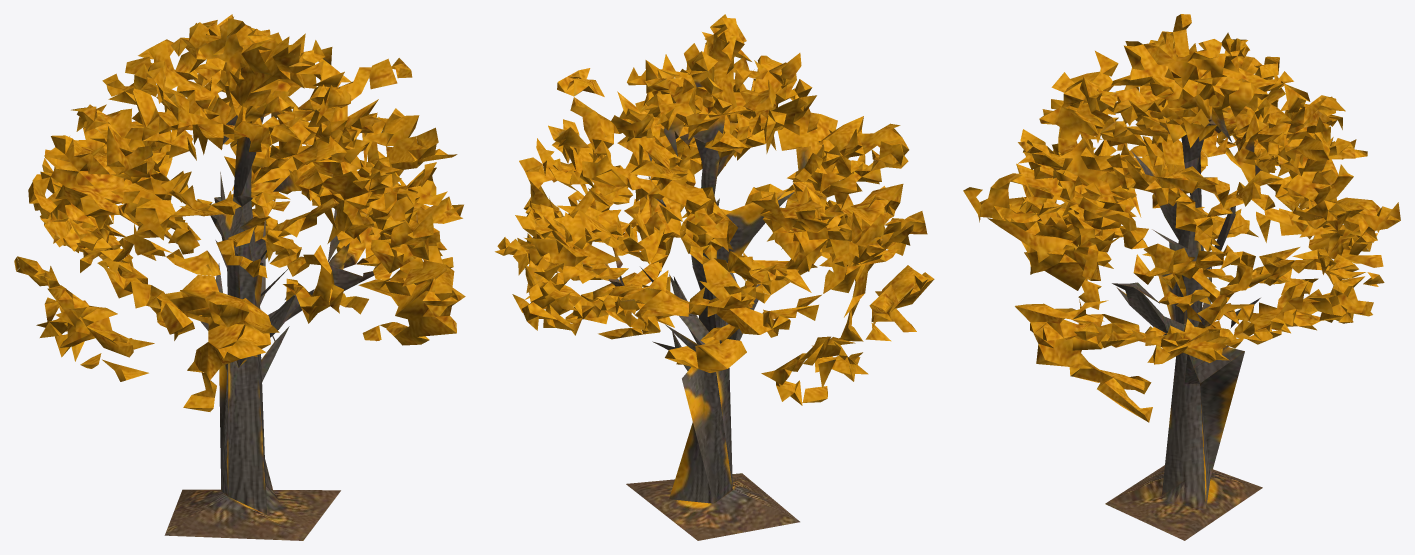
The model's file is ginkgo.glb.
The picture shows the model from 3 angles, left to right: view 1: azimuth 30°, elevation 25°; view 2: azimuth 150°, elevation 25°; view 3: azimuth 270°, elevation 25°; orthographic projection. The views are drawn at different scales.
Parts seen in each view (by area): view 1: world; view 2: world; view 3: world.
Boxes of the visible parts, <box> form: world: <box>14,14,465,540</box>; world: <box>495,14,934,540</box>; world: <box>963,14,1400,540</box>.
Size of the model in its own units: 7.74 by 8.99 by 7.66.
1 material, 1 textured.
